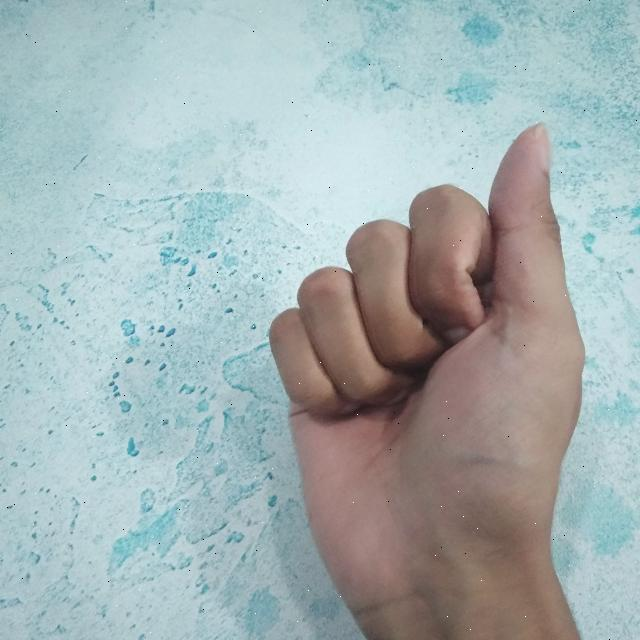A: (262, 111, 596, 640), (264, 114, 594, 640)
